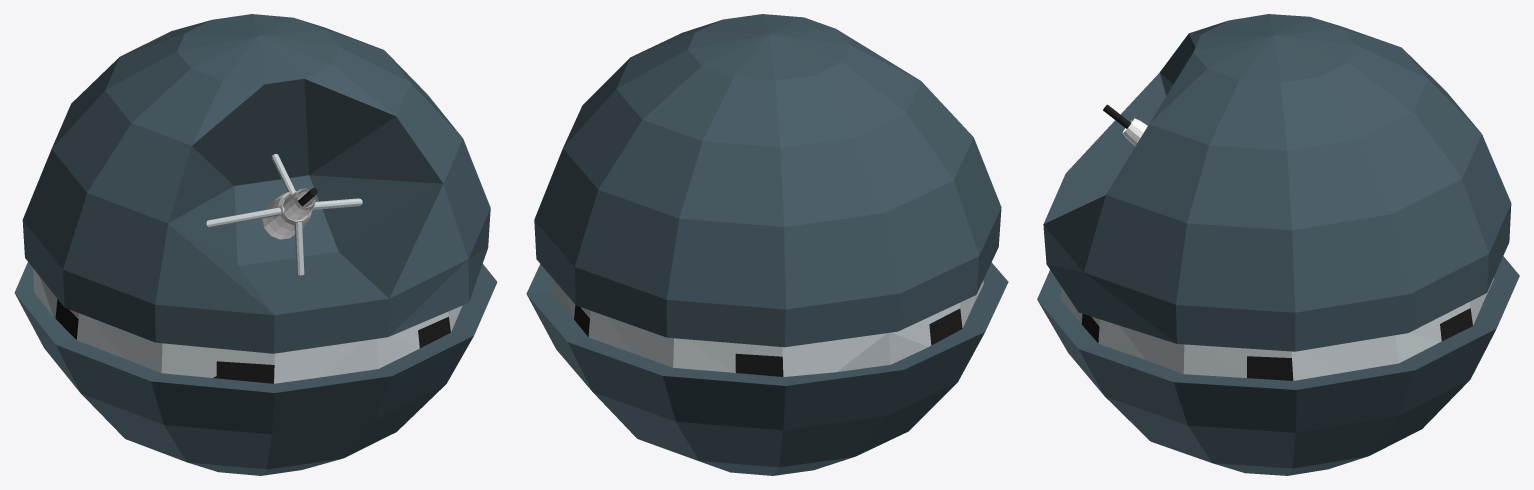
The model's file is Deathstar.fbx.
3 renders of one model, left to right at view 1: azimuth 30°, elevation 25°; view 2: azimuth 150°, elevation 25°; view 3: azimuth 270°, elevation 25°, orthographic.
Visible parts, largest first — view 1: mesh_799463457, mesh_1208480485, mesh_333298558, group_461147207, group_803718959; view 2: mesh_799463457, mesh_1208480485, mesh_333298558; view 3: mesh_799463457, mesh_1208480485, mesh_333298558, group_461147207.
Boxes of the visible parts, box(x1,y1,x2,y2) form: mesh_799463457: box(22, 14, 490, 353); mesh_1208480485: box(14, 262, 497, 475); mesh_333298558: box(33, 268, 462, 383); group_461147207: box(262, 188, 317, 239); group_803718959: box(206, 207, 284, 227); mesh_799463457: box(534, 14, 1001, 347); mesh_1208480485: box(526, 262, 1008, 475); mesh_333298558: box(552, 280, 983, 376); mesh_799463457: box(1043, 14, 1511, 351); mesh_1208480485: box(1037, 256, 1519, 475); mesh_333298558: box(1060, 278, 1494, 380); group_461147207: box(1103, 104, 1147, 145).
Bounding box in the file's own units: 28.41 × 27.2 × 28.41.
